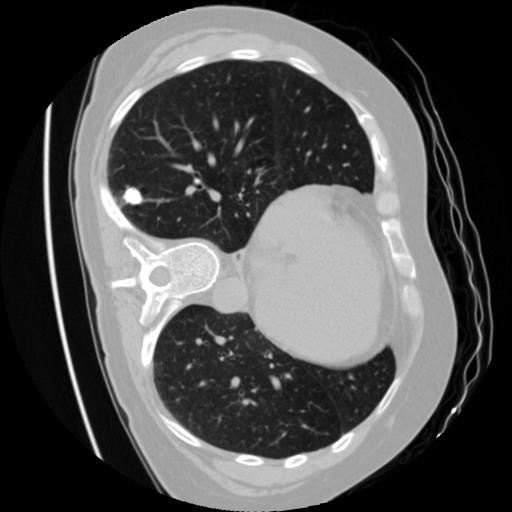nodule: (121, 183, 147, 209)
